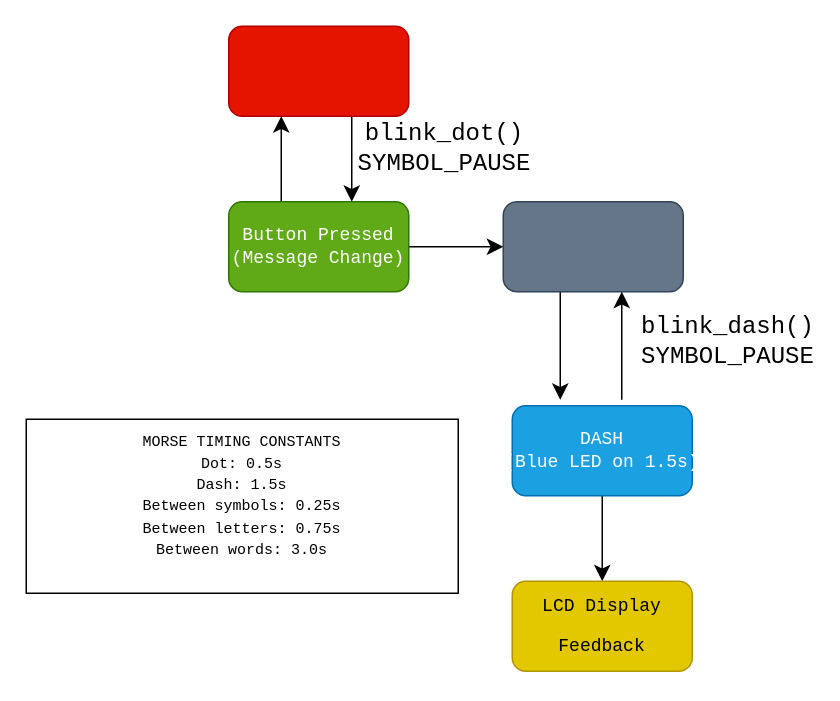
This 840x701 diagram has some shape labels left out. The shapes that lost their labels are listed below. From the top down, each one's box as (x1, y1, x2, y2) in pixels, then its label:
(227, 25, 409, 116): DOT
(502, 200, 683, 292): OFF (All LEDs OFF)
